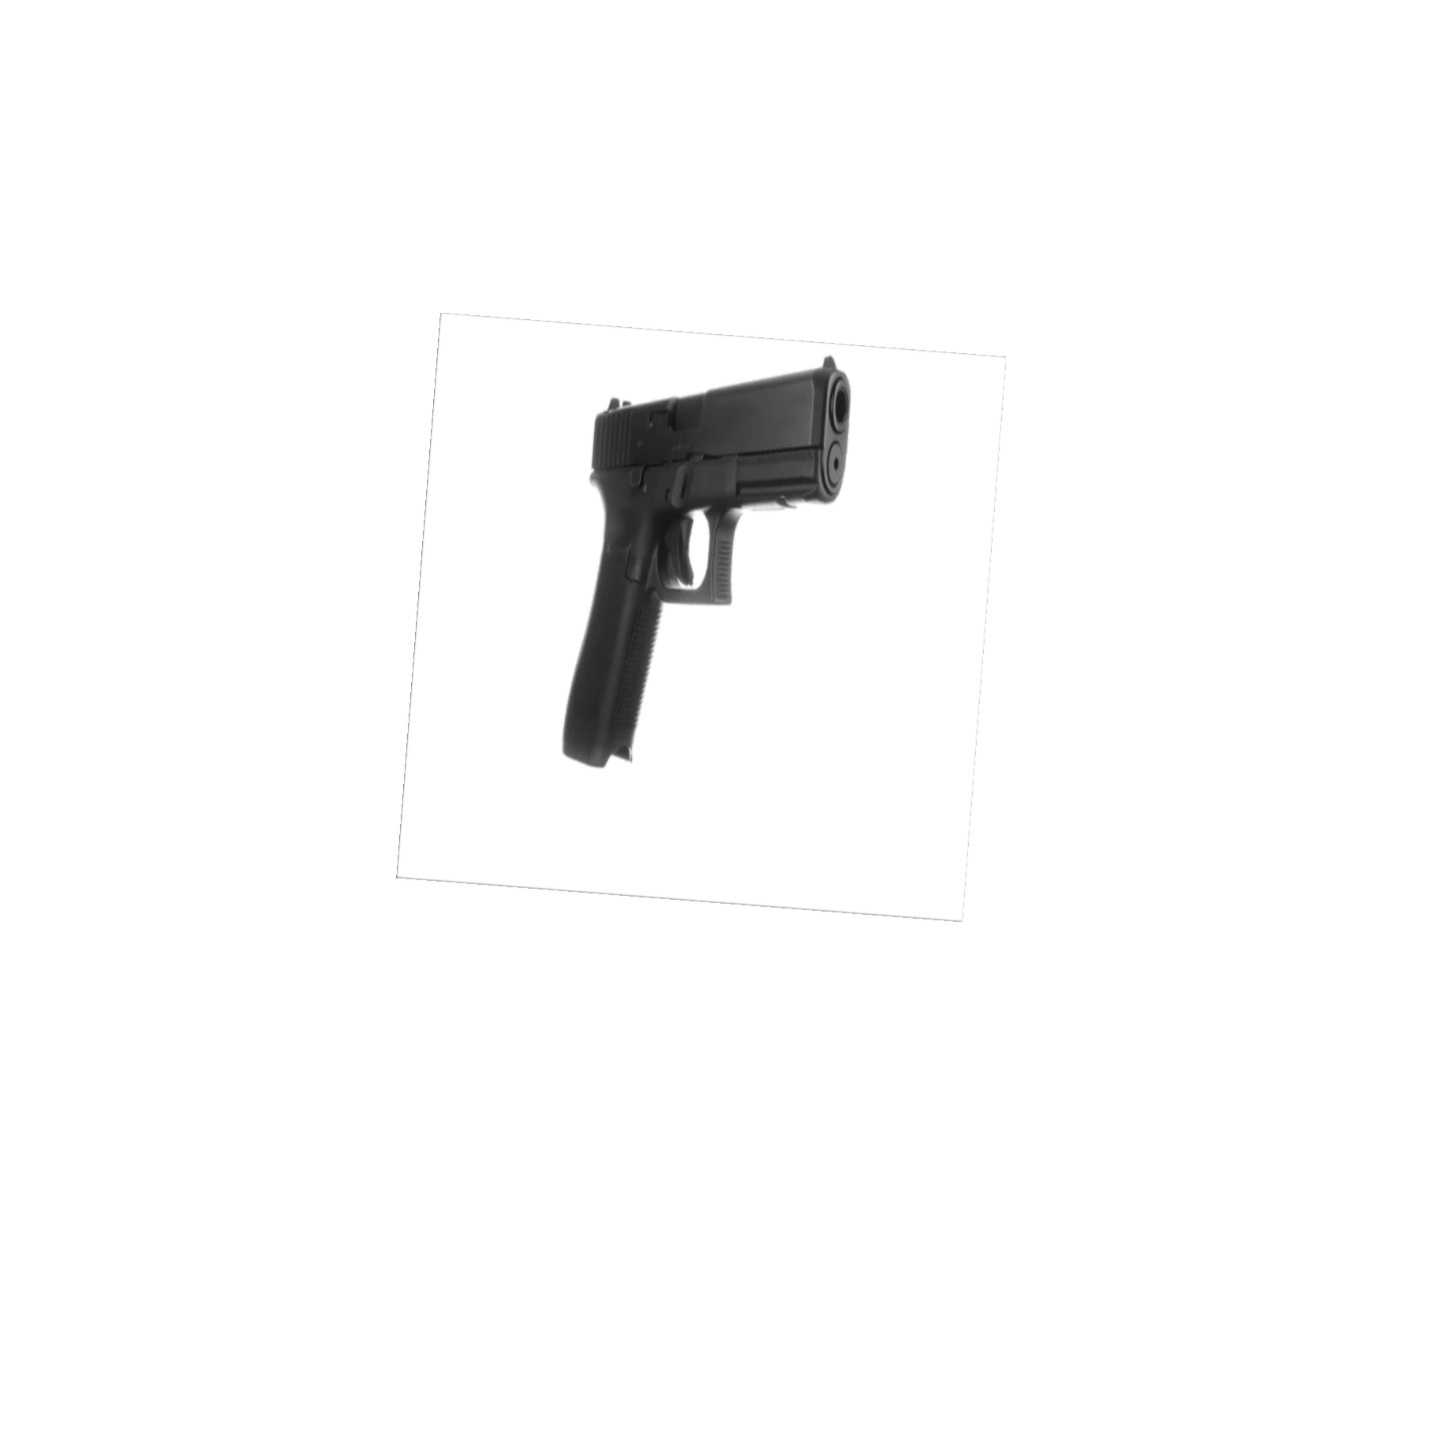gun: (558, 352, 870, 786)
